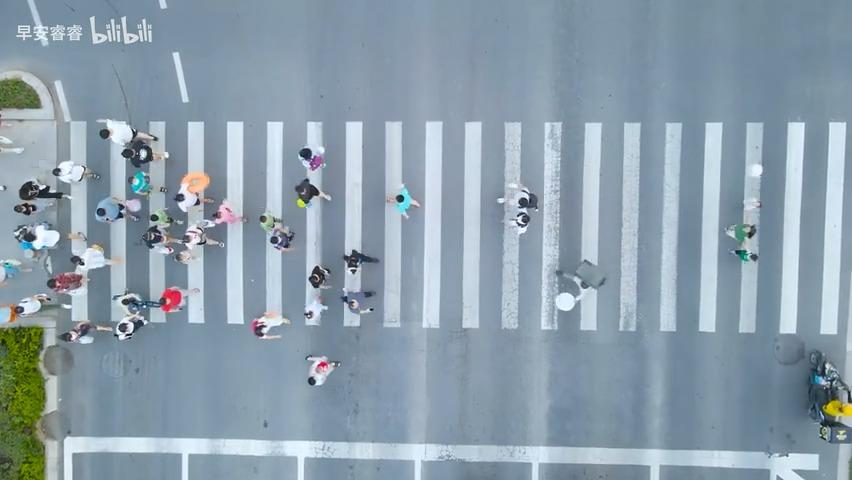Civilian: (537, 248, 611, 322), (806, 349, 851, 442), (95, 117, 169, 168), (4, 219, 68, 258), (496, 181, 539, 235), (39, 268, 96, 301), (96, 117, 159, 146), (807, 349, 831, 423), (137, 222, 183, 259), (173, 171, 214, 212), (0, 292, 51, 324), (66, 243, 116, 275), (259, 210, 295, 251), (120, 138, 169, 168), (723, 222, 758, 262), (94, 195, 141, 224), (385, 183, 421, 219), (57, 320, 112, 343), (179, 224, 220, 254), (52, 159, 101, 184), (18, 178, 73, 200), (304, 354, 341, 386), (294, 177, 332, 208), (158, 285, 200, 313), (251, 310, 290, 339), (112, 312, 149, 341), (211, 198, 248, 224), (342, 248, 379, 274), (341, 289, 376, 314), (297, 145, 326, 171), (268, 224, 295, 251), (303, 295, 328, 324), (127, 170, 152, 197), (13, 199, 55, 215), (308, 264, 331, 289), (0, 135, 24, 154)
